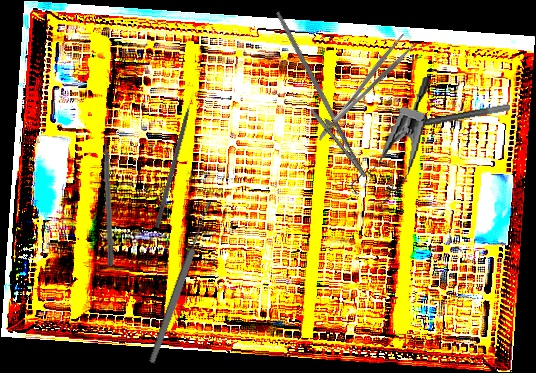Dressing Forceps: (322, 31, 419, 127)
Fixation Ring: (387, 93, 511, 133)
Hook Surgical: (154, 89, 198, 229)
Needle Holder: (245, 10, 386, 187)
Pusher: (102, 125, 116, 267)
Speculum: (347, 69, 433, 214)
Surgical Spoon: (146, 198, 216, 366)
